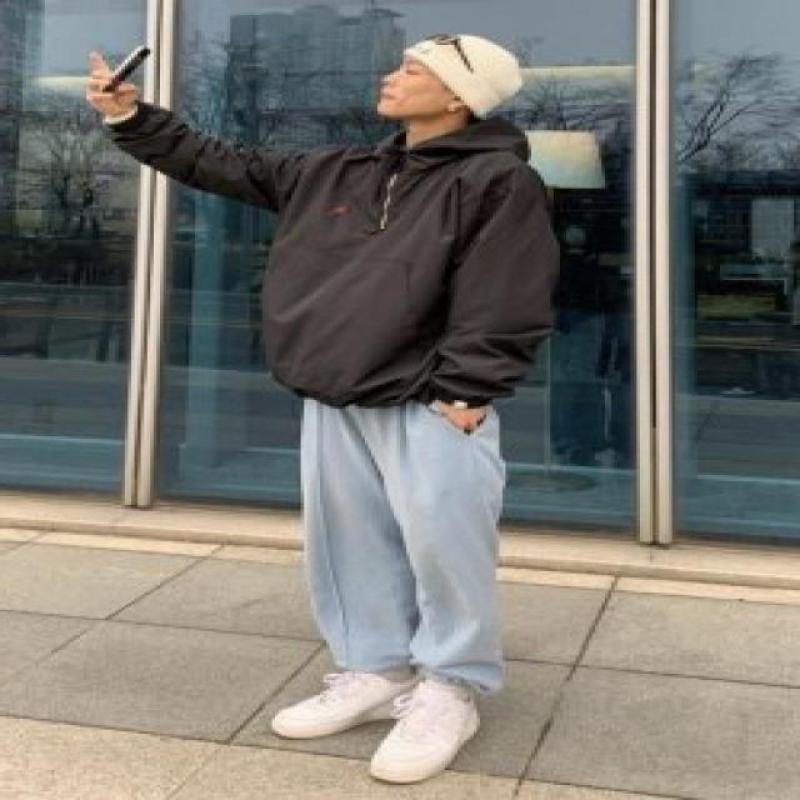coat: (99, 115, 563, 411)
trousers: (297, 388, 508, 693)
